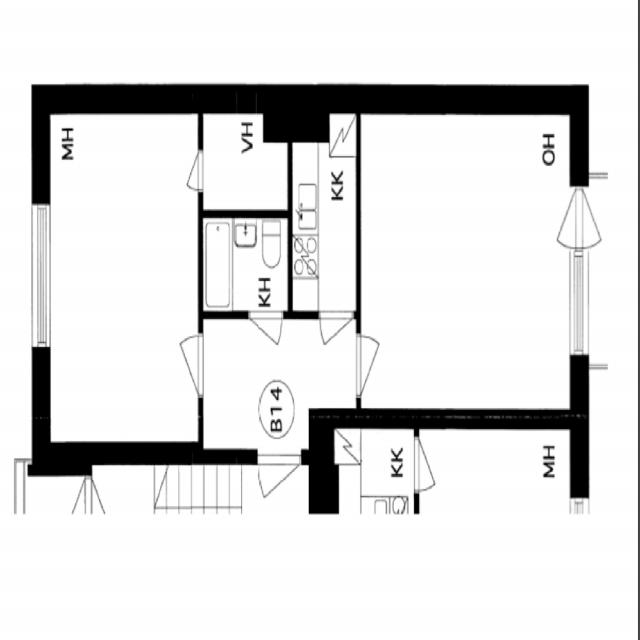door: (258, 449, 299, 531), (570, 188, 625, 248), (534, 188, 588, 248), (160, 336, 204, 396), (250, 312, 281, 371), (173, 152, 204, 190)
